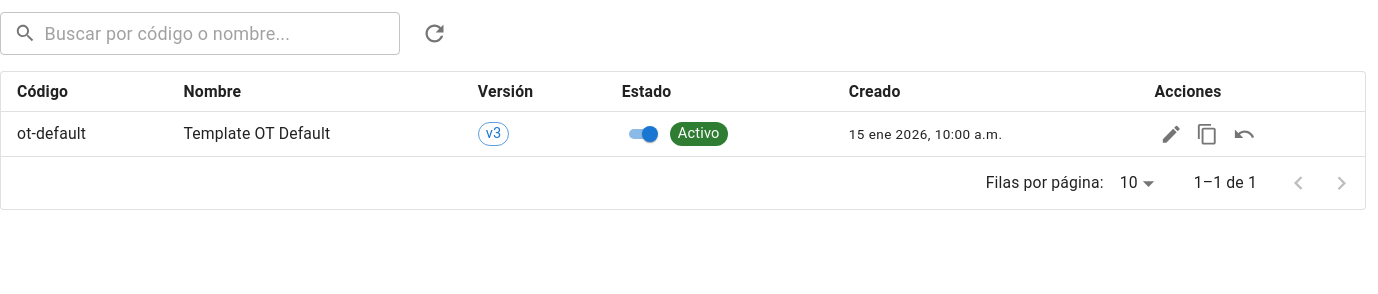
Test: TemplateManager › acción Duplicar › muestra error si duplicate falla
The image size is (1378, 294).
Expected: the text "ot-default" is shown, x1=17 y1=124 x2=86 y2=143
Click the button named "Duplicar template".
click(1207, 134)  # box x1=1191 y1=118 x2=1224 y2=150
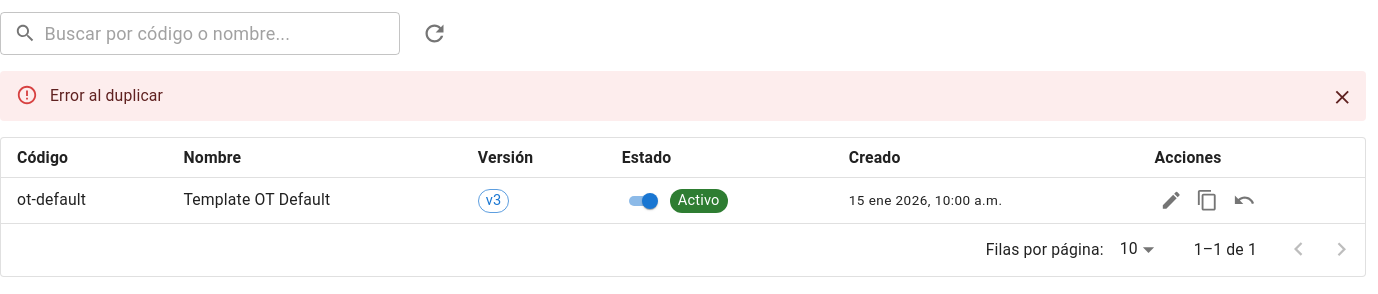
Expected: the text "Error al duplicar" is shown, x1=50 y1=86 x2=163 y2=105
